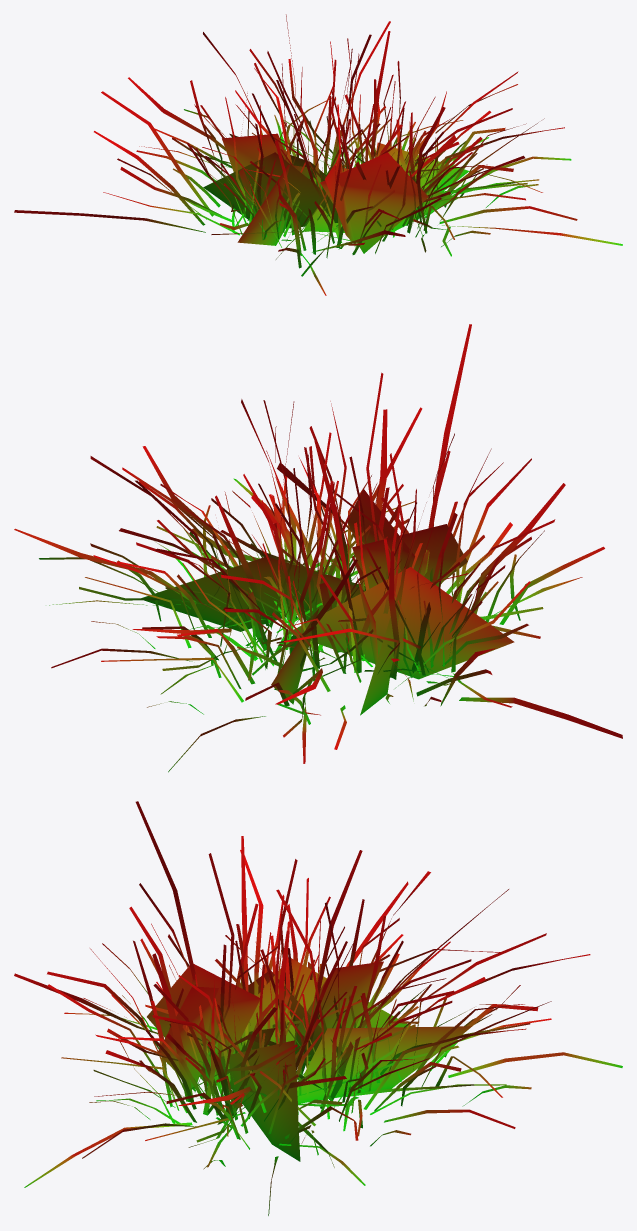
The model's file is Tundra Grass_LOD3_Var4_wk2oaeyqx.fbx.
3 views of the same model, one above another, from view 1: azimuth 30°, elevation 25°; view 2: azimuth 150°, elevation 25°; view 3: azimuth 270°, elevation 25° (orthographic). The views are drawn at different scales.
Parts seen in each view (by area): view 1: _yk2i_Var4_LOD3; view 2: _yk2i_Var4_LOD3; view 3: _yk2i_Var4_LOD3.
Boxes of the visible parts, x1,y1,x2,y2 form: _yk2i_Var4_LOD3: (14, 14, 622, 295); _yk2i_Var4_LOD3: (14, 324, 622, 772); _yk2i_Var4_LOD3: (14, 801, 622, 1215).
Bounding box in the file's own units: 58.73 × 25.06 × 50.61.
